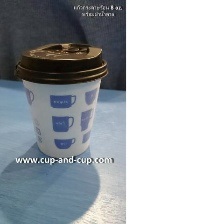paper_cup: (10, 38, 113, 162)
